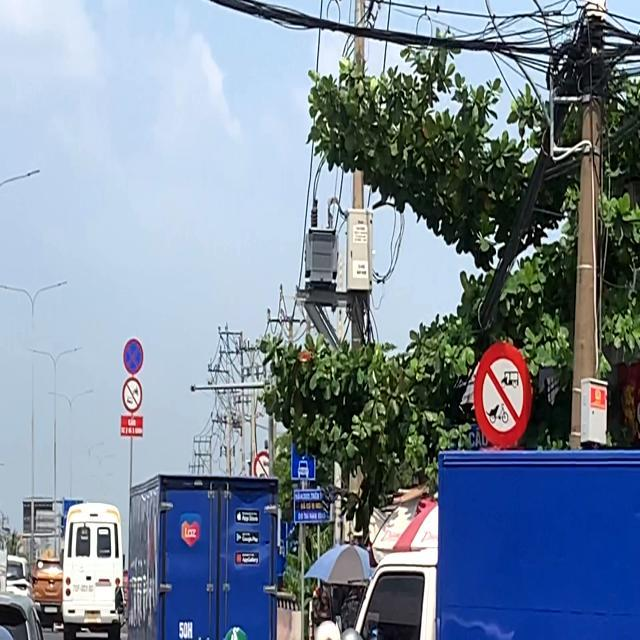P-130: (124, 335, 142, 375)
